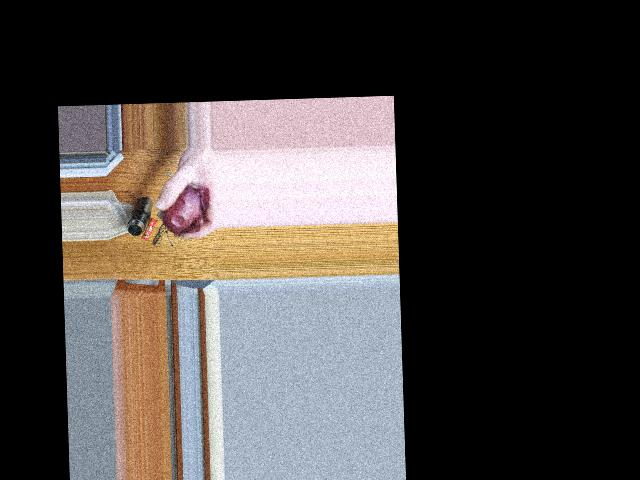onion: (160, 185, 205, 233)
